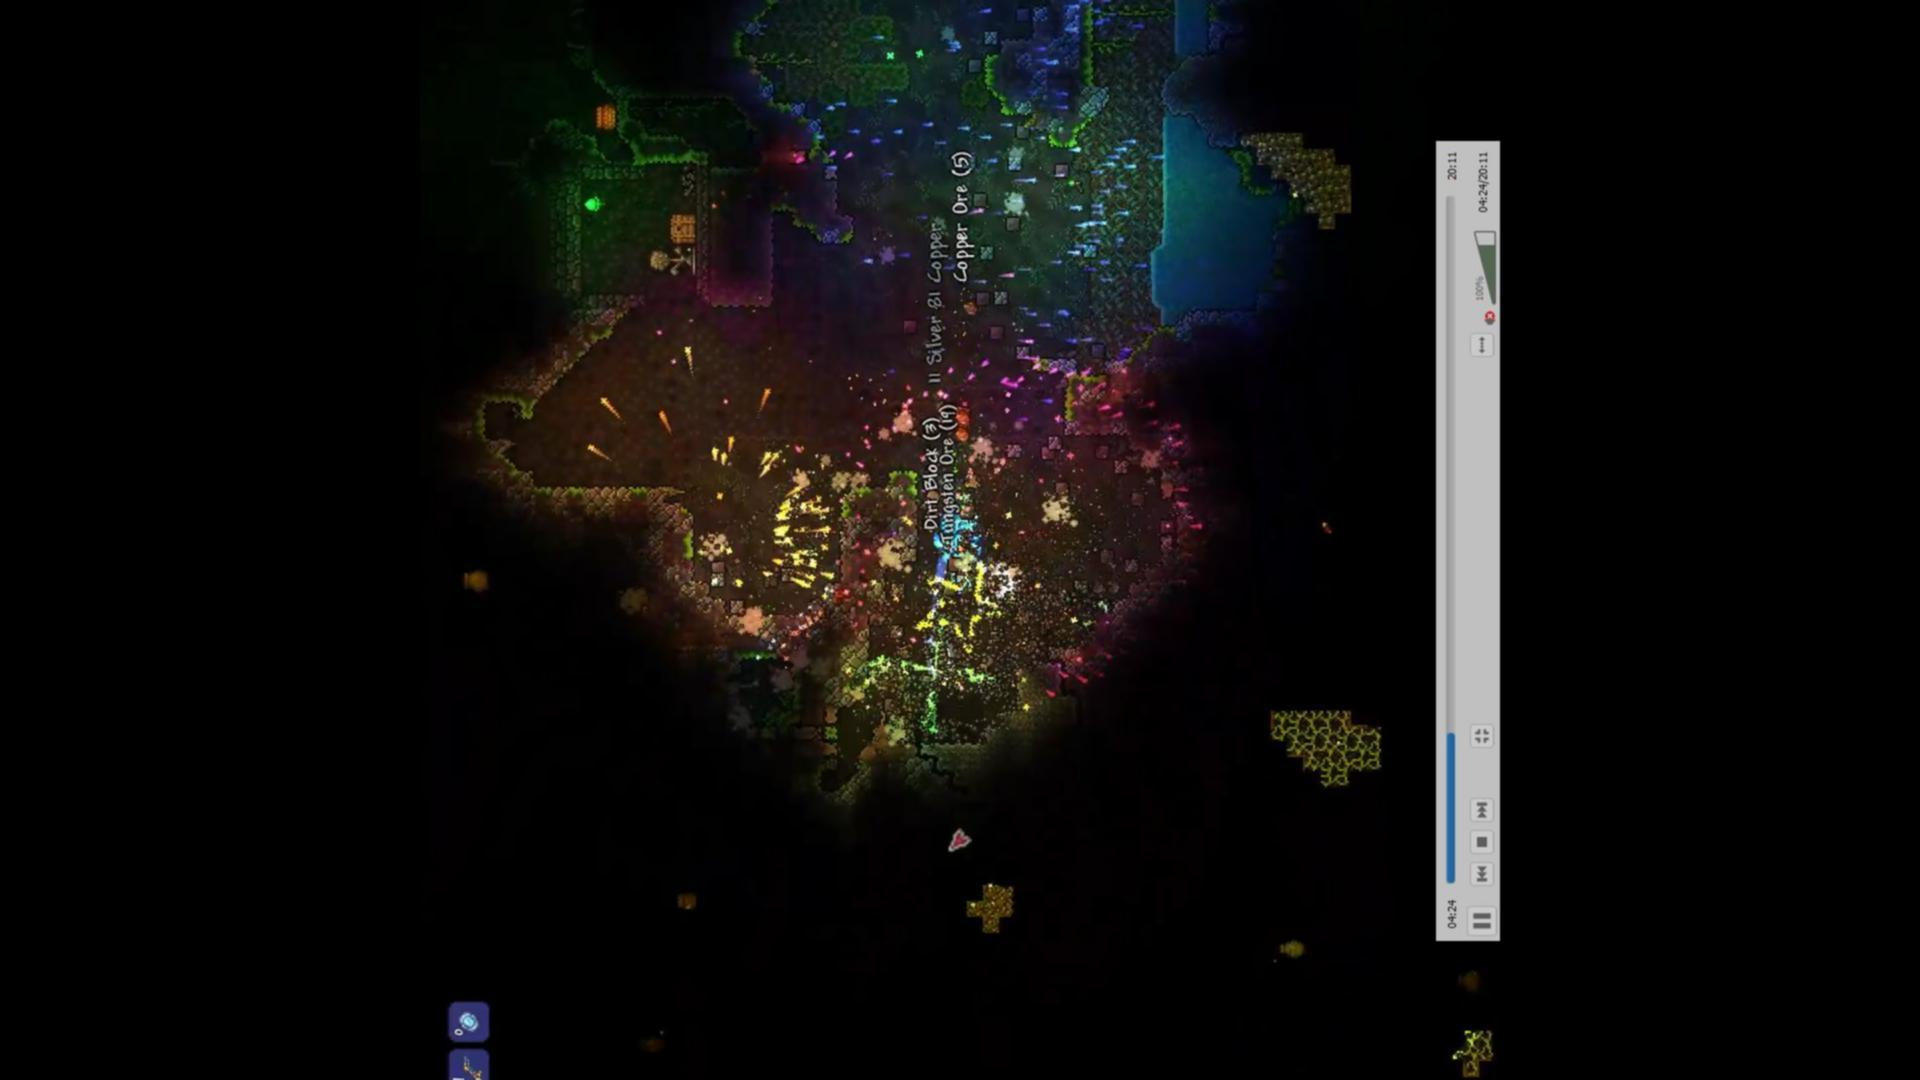chest: (665, 208, 698, 245)
mirror: (459, 1011, 480, 1036)
